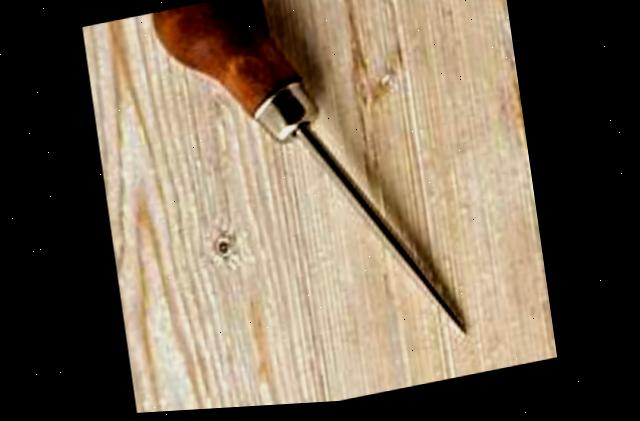ice pick: (156, 0, 477, 387)
